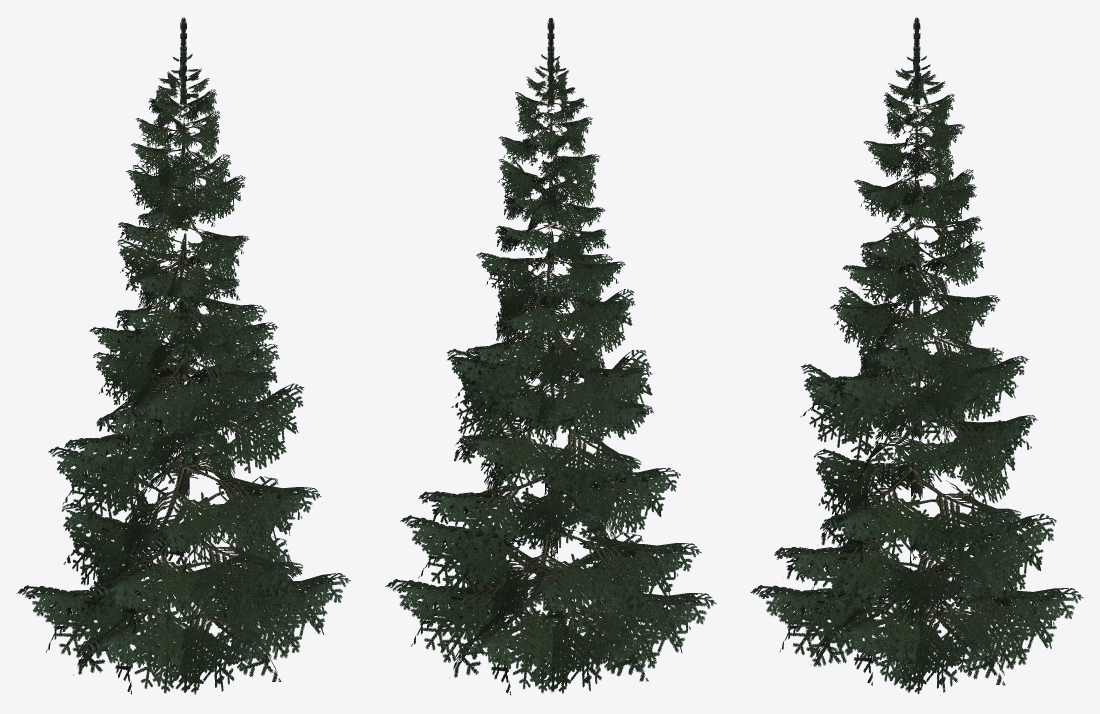
Rendered from Fir.obj.
3 renders of one model, left to right at view 1: azimuth 30°, elevation 25°; view 2: azimuth 150°, elevation 25°; view 3: azimuth 270°, elevation 25°, orthographic.
Parts seen in each view (by area): view 1: Fir; view 2: Fir; view 3: Fir.
Part boxes in pixels (box(x1,y1,x2,y2)): Fir: box(16, 17, 350, 695); Fir: box(385, 18, 716, 694); Fir: box(750, 17, 1083, 695).
Bounding box in the file's own units: 82.25 × 192 × 88.84.
